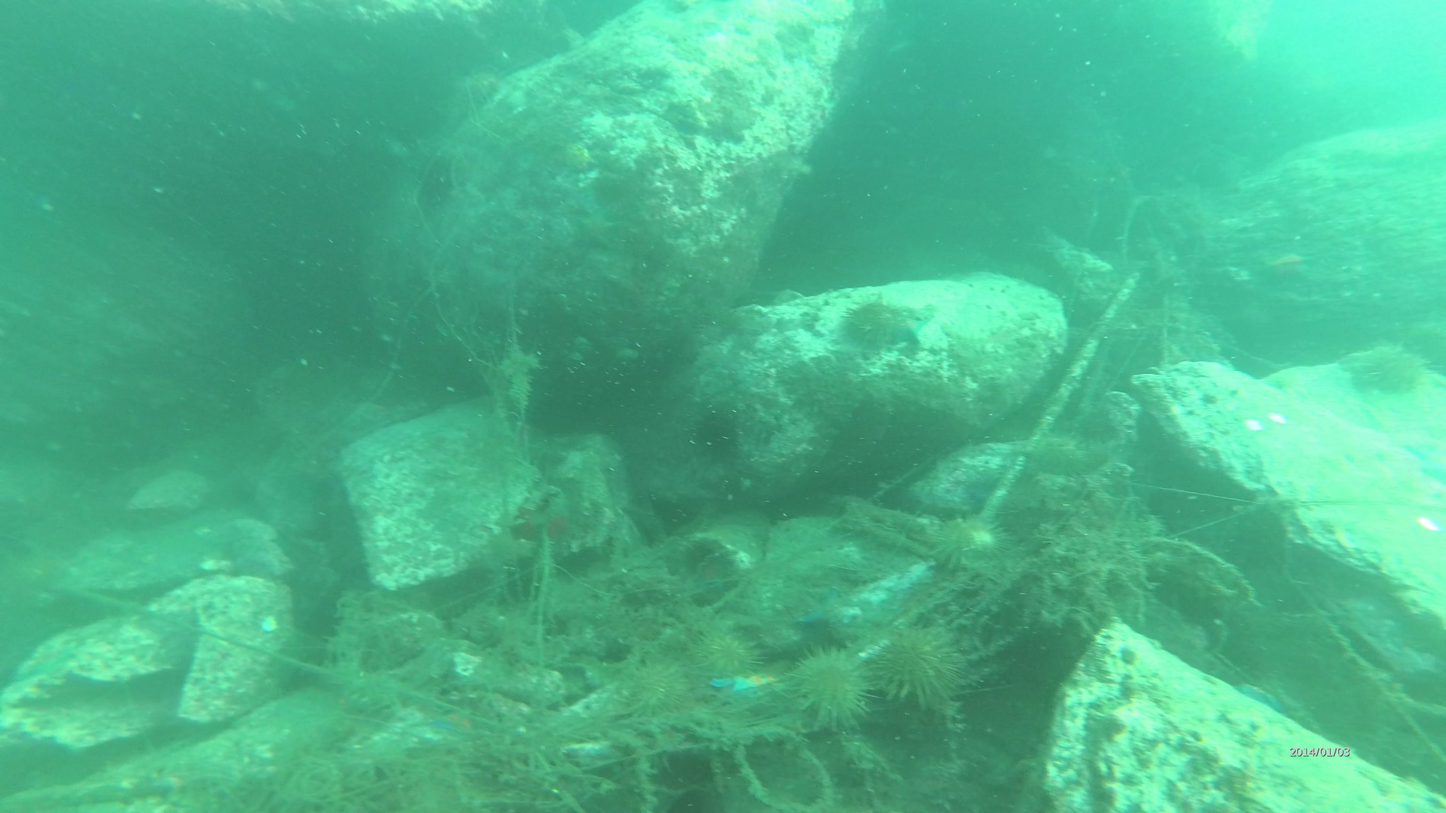holothurian: (1238, 676, 1284, 717), (427, 709, 484, 741), (1268, 249, 1311, 282), (724, 676, 779, 701)
starfish: (867, 625, 959, 716), (789, 652, 869, 729), (1351, 338, 1424, 400), (940, 513, 1010, 571), (623, 662, 688, 716), (840, 298, 908, 349), (689, 408, 748, 465), (687, 629, 756, 669)
